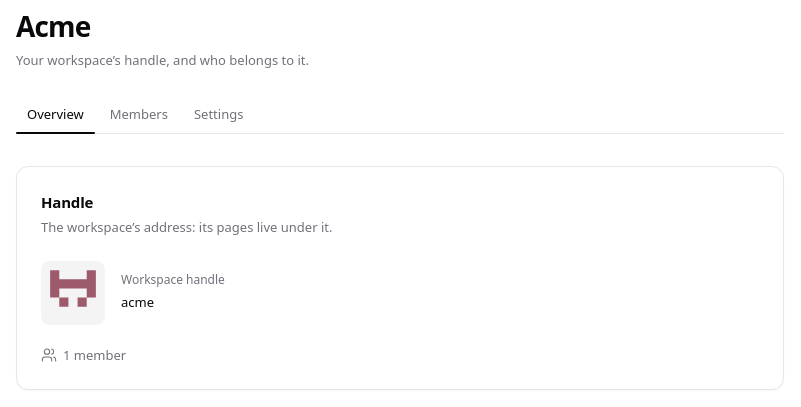
it: the settings page shows the handle, and not the internal id
Expected: the text "acme" is shown, [121, 292, 154, 312]
Click the button with aria-label "Edit workspace handle" at (148,302), box [115, 290, 180, 314]
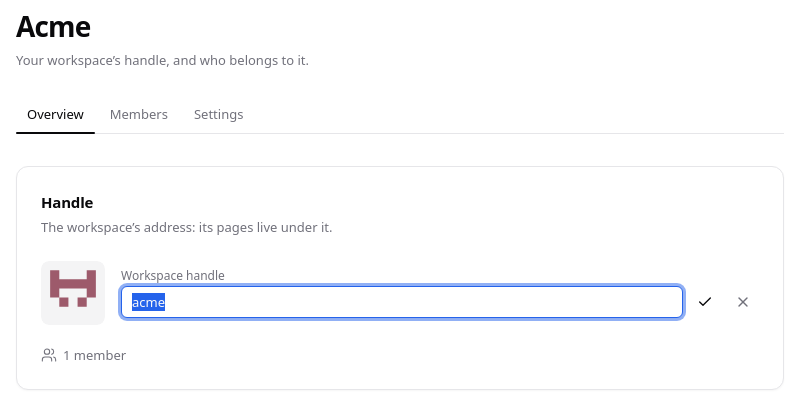
Expected: the field labelled "Workspace handle" holds "acme", [121, 286, 683, 318]
